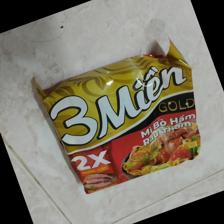3mien: (27, 37, 203, 197)
